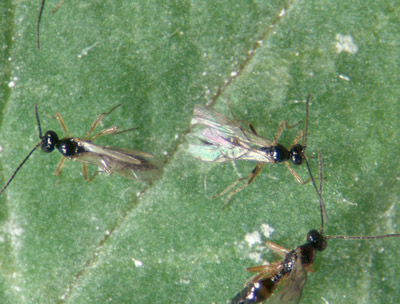Trifoli: (177, 87, 322, 201), (24, 95, 151, 197), (215, 216, 348, 301)
